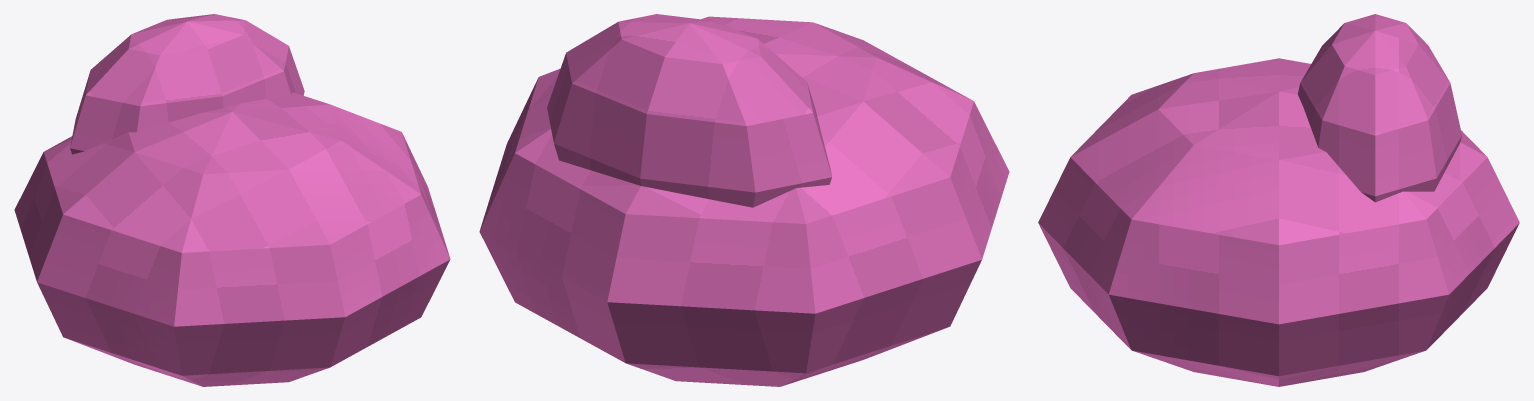
The model's file is retro-arcade-and-mall-1989-beanbag-602afbad.glb.
The picture shows the model from 3 angles, left to right: view 1: azimuth 30°, elevation 25°; view 2: azimuth 150°, elevation 25°; view 3: azimuth 270°, elevation 25°; orthographic projection. The views are drawn at different scales.
Parts seen in each view (by area): view 1: beanbag; view 2: beanbag; view 3: beanbag.
Part boxes in pixels (x1,y1,x2,y2): beanbag: (14, 14, 450, 386); beanbag: (479, 14, 1009, 386); beanbag: (1038, 14, 1519, 386).
Bounding box in the file's own units: 1 × 0.74 × 1.
Materials: 1 (1 with a texture image).
